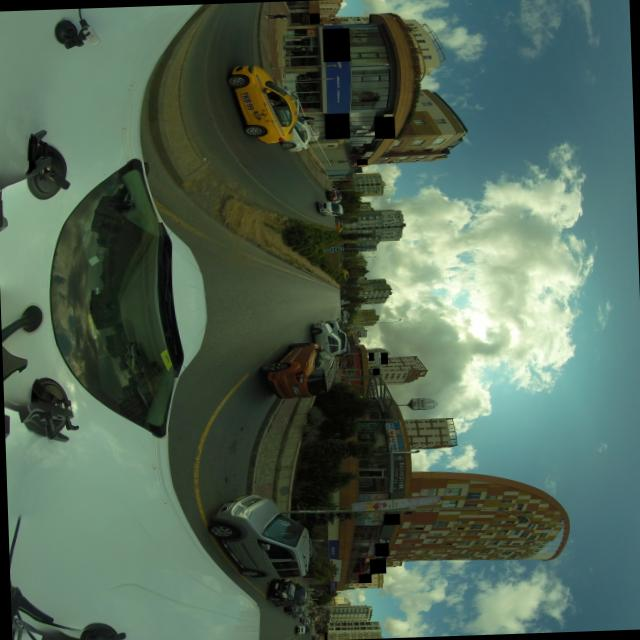SignStore: (321, 28, 349, 62), (324, 113, 348, 139), (392, 453, 404, 491), (374, 116, 393, 139), (369, 558, 384, 573), (383, 513, 399, 525), (374, 542, 387, 556), (358, 573, 370, 583), (308, 13, 318, 24), (379, 352, 387, 364), (356, 159, 366, 165), (371, 368, 379, 375), (367, 352, 373, 361), (323, 635, 326, 640), (324, 632, 326, 635)
